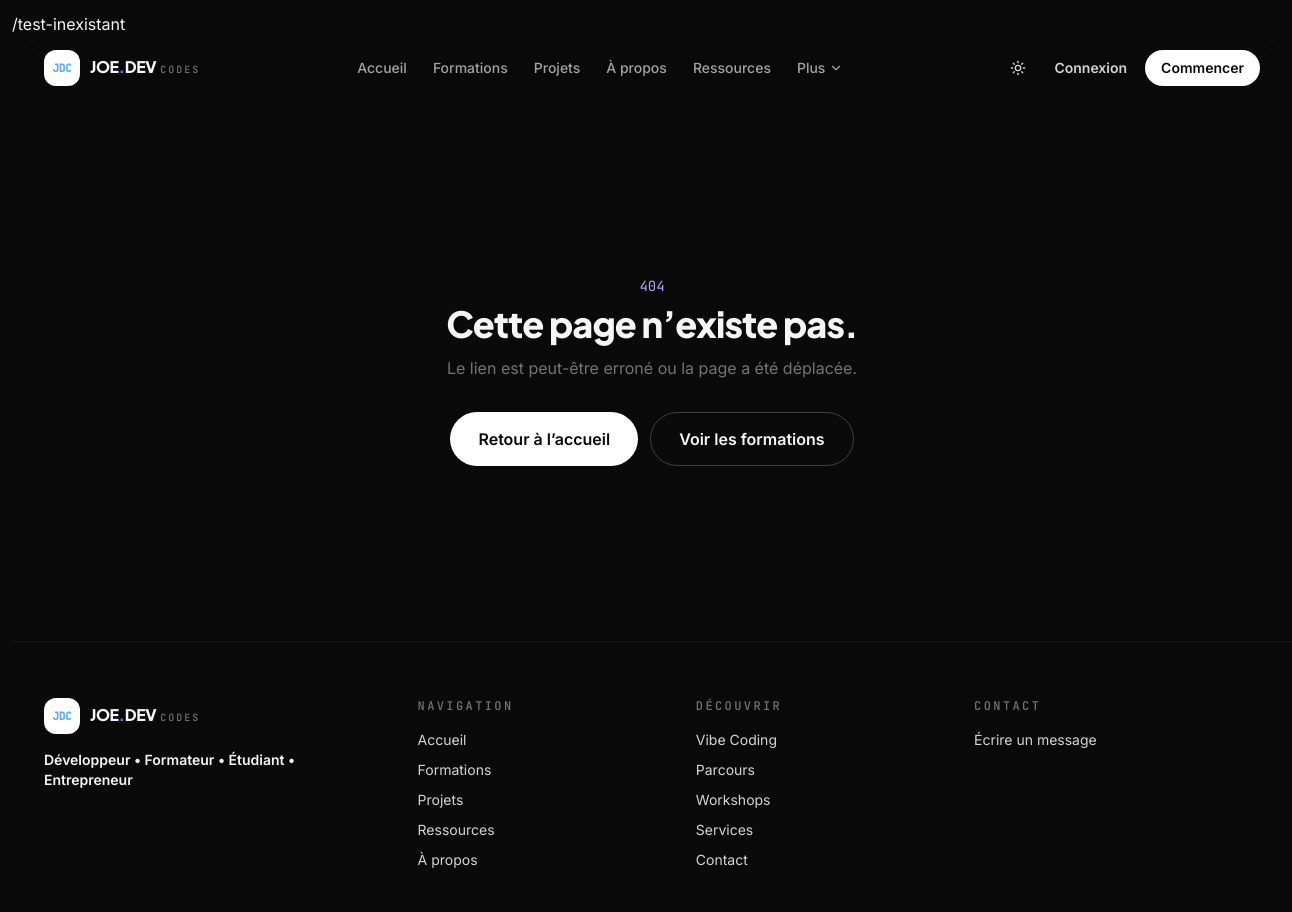
Scenario: Test 7 — routes inconnues et pages publiques › /test-inexistant → 404 → Accueil
expect the heading "Cette page n’existe pas." is shown: met, box [446, 304, 858, 344]
Click the link "Retour à l’accueil".
click(544, 439)  # box [450, 412, 638, 466]
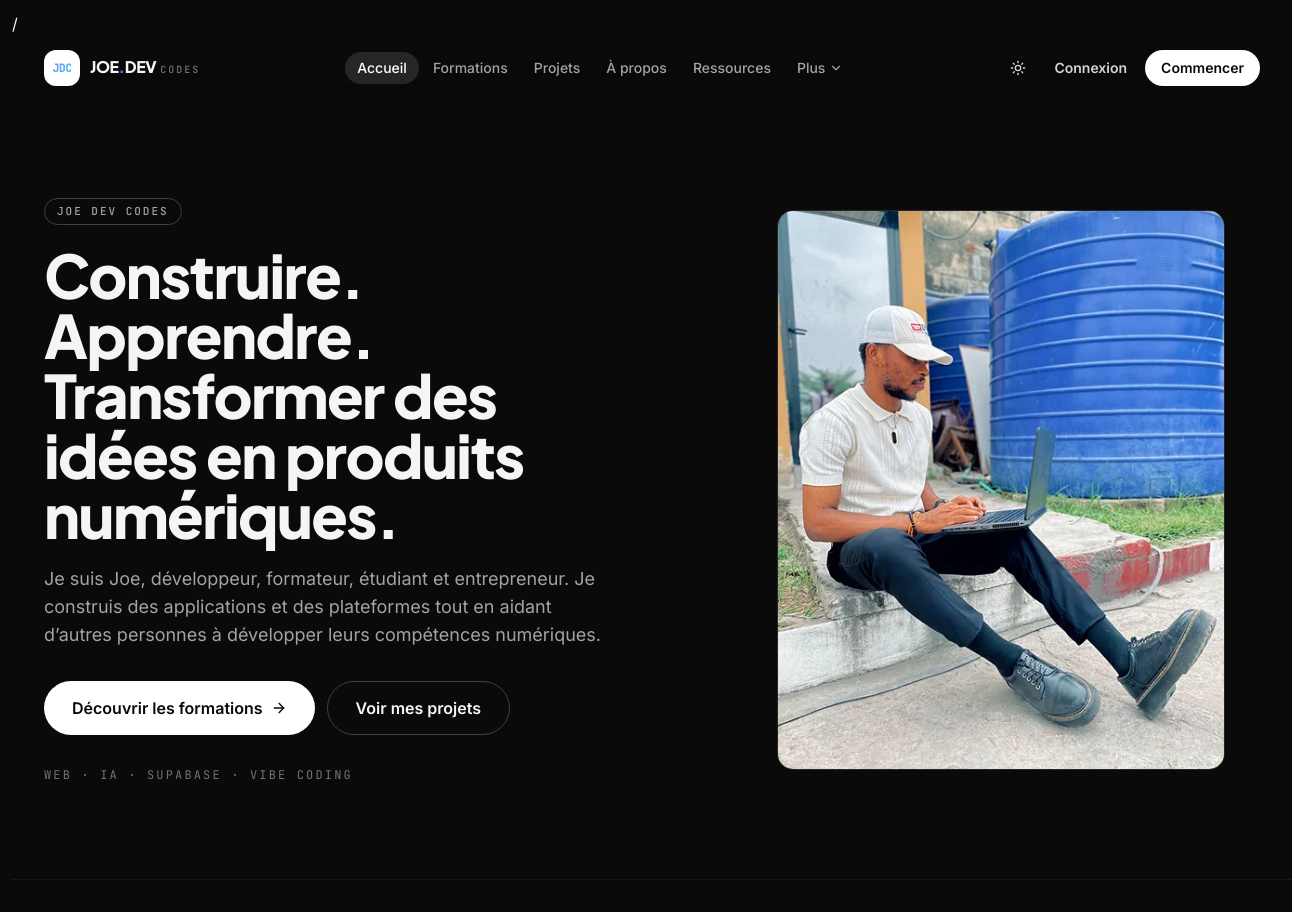
expect the heading "Construire. Apprendre." is shown: met, box [44, 236, 524, 552]
